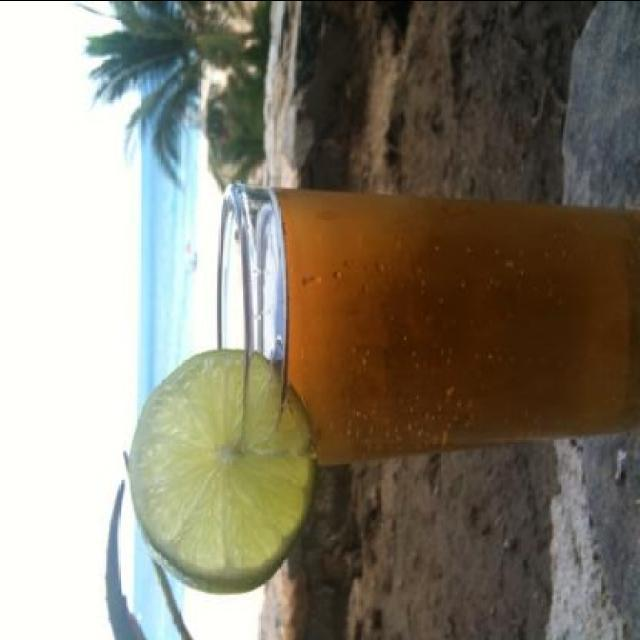Lemon: (124, 347, 318, 595)
